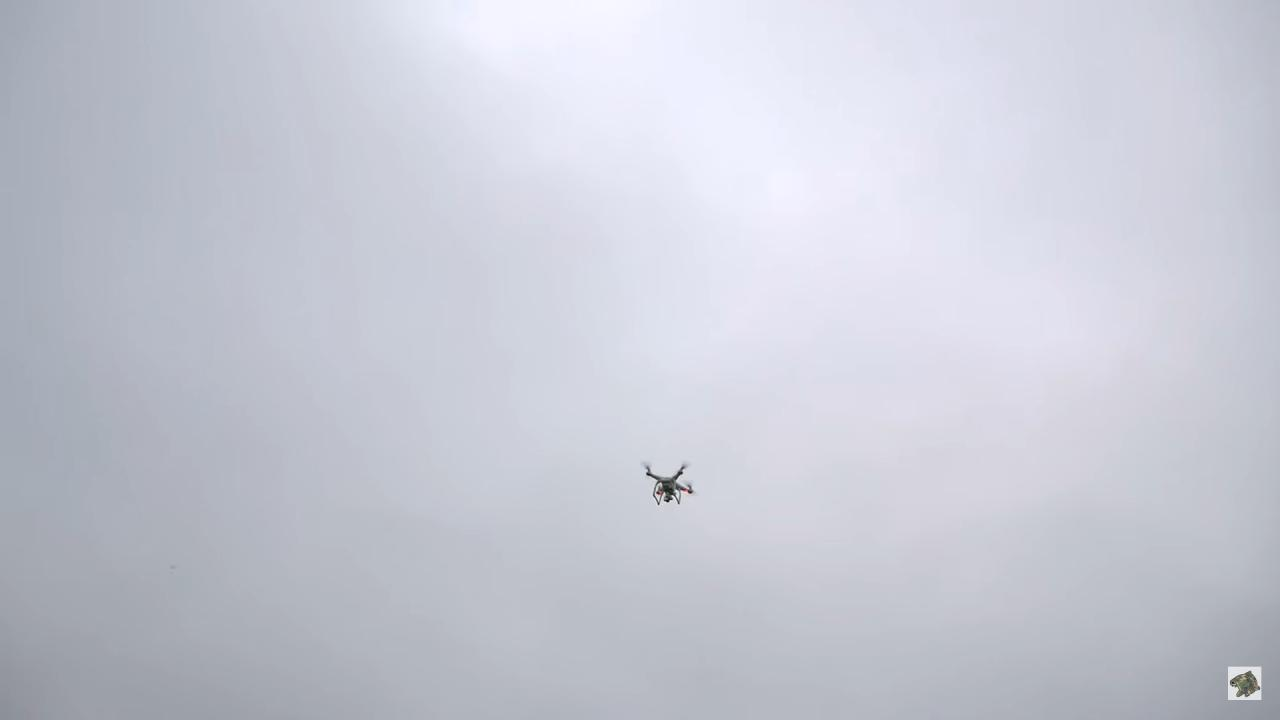Drone: (631, 448, 707, 512)
